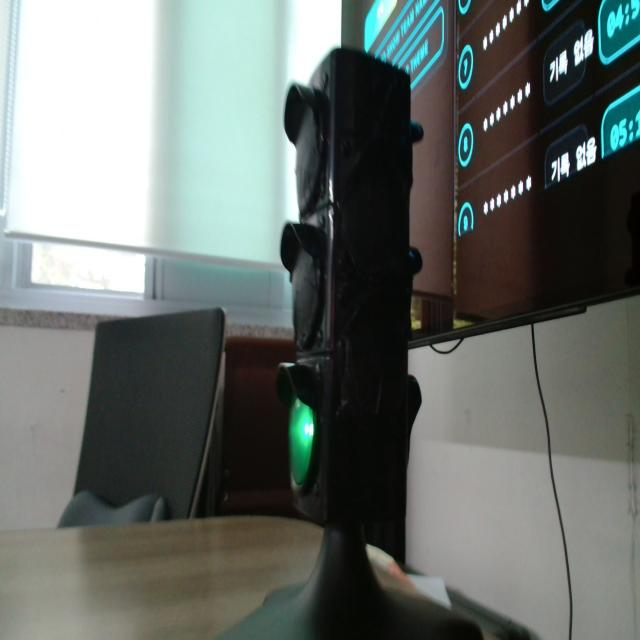green_light: (289, 399, 314, 485)
